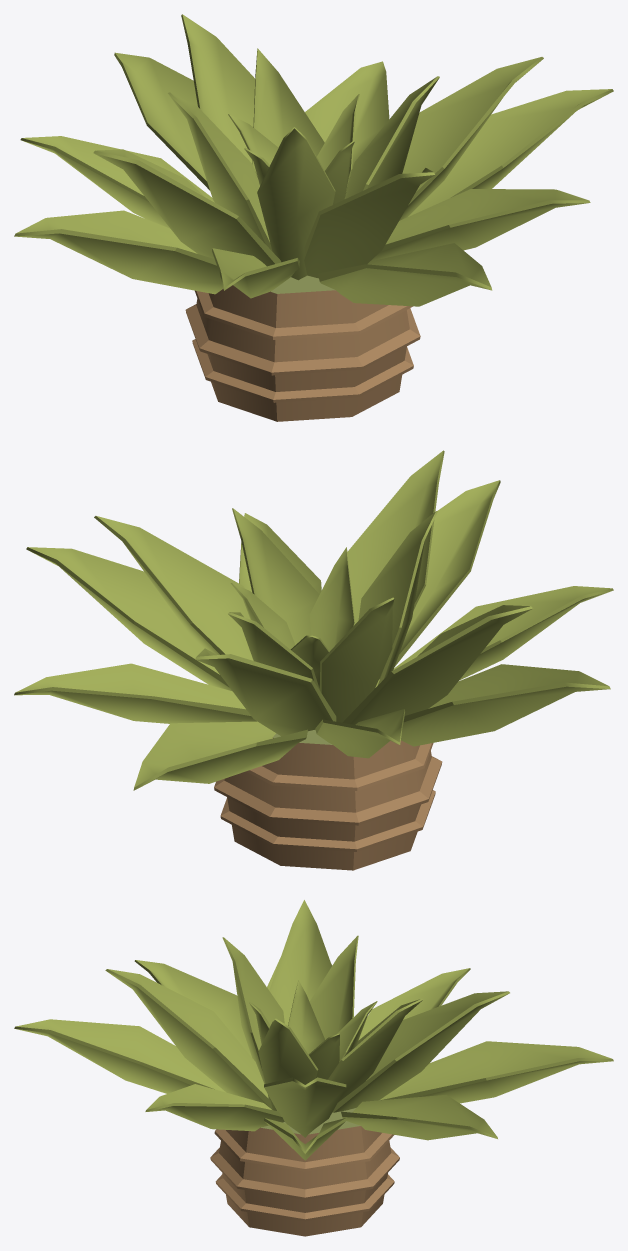
Rendered from cycadales.fbx.
3 renders of one model, top to bottom at view 1: azimuth 30°, elevation 25°; view 2: azimuth 150°, elevation 25°; view 3: azimuth 270°, elevation 25°, orthographic. The views are drawn at different scales.
Parts seen in each view (by area): view 1: pCube24; view 2: pCube24; view 3: pCube24.
Part boxes in pixels (<box>): pCube24: <box>14,14,613,421</box>; pCube24: <box>14,450,613,870</box>; pCube24: <box>14,900,613,1236</box>.
Size of the model in its own units: 4.92 by 2.4 by 5.36.
